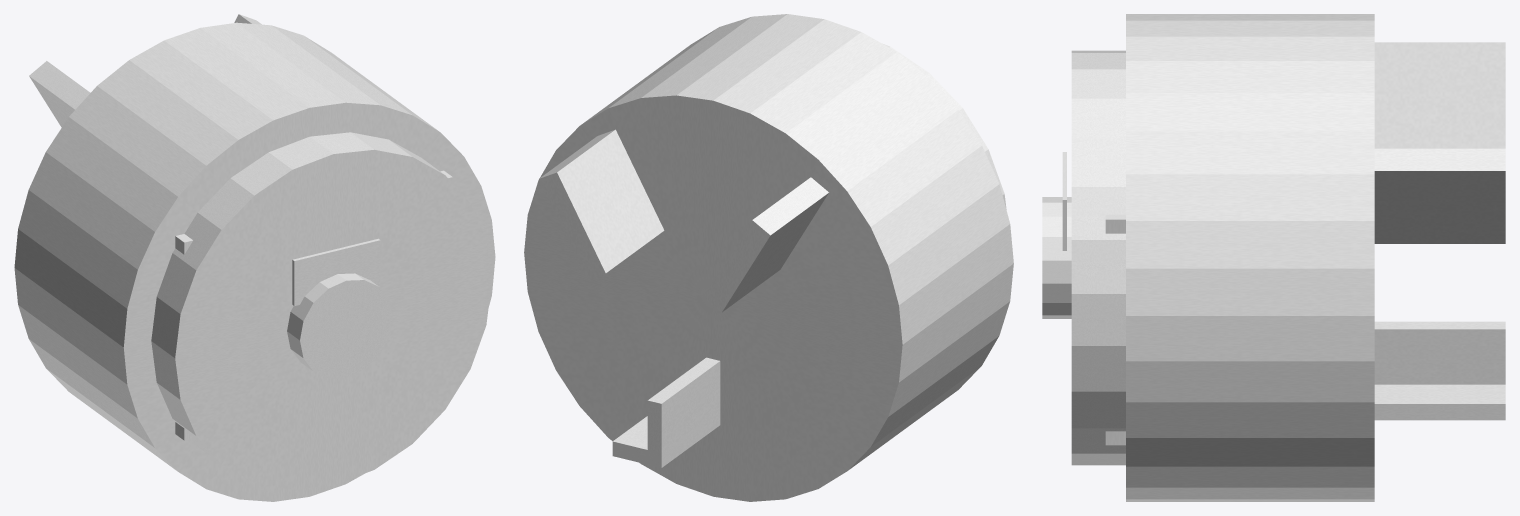
The model's file is nema1030plug.obj.
3 renders of one model, left to right at view 1: azimuth 30°, elevation 25°; view 2: azimuth 150°, elevation 25°; view 3: azimuth 270°, elevation 25°, orthographic. The views are drawn at different scales.
Parts seen in each view (by area): view 1: Grip, Case, Badge, Blades; view 2: Case, Blades, Grip; view 3: Case, Blades, Grip.
Boxes of the visible parts, bbox=[...] form: Grip: bbox=[151, 132, 491, 489]; Case: bbox=[14, 22, 495, 501]; Badge: bbox=[292, 238, 380, 305]; Blades: bbox=[29, 14, 261, 127]; Case: bbox=[524, 14, 1013, 501]; Blades: bbox=[539, 129, 828, 467]; Grip: bbox=[882, 43, 1006, 209]; Case: bbox=[1126, 14, 1374, 501]; Blades: bbox=[1374, 42, 1505, 420]; Grip: bbox=[1042, 50, 1125, 465].
Bounding box in the file's own units: 0.216 × 0.216 × 0.205.
